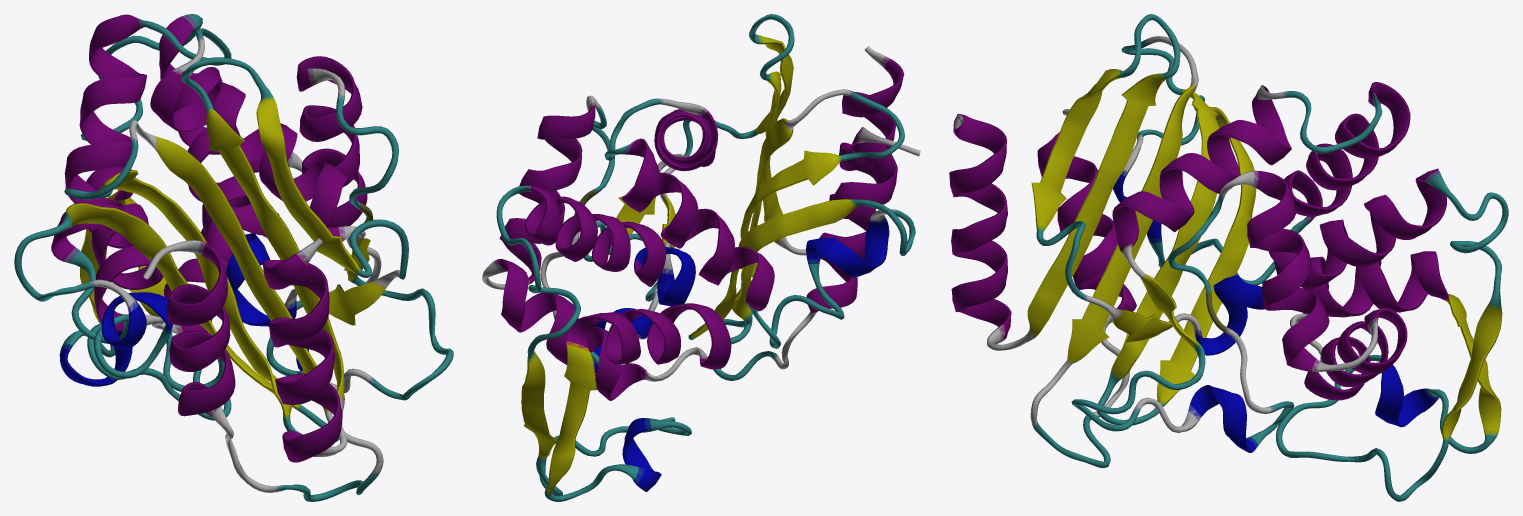
File: animate.0015.obj
3 renders of one model, left to right at view 1: azimuth 30°, elevation 25°; view 2: azimuth 150°, elevation 25°; view 3: azimuth 270°, elevation 25°, orthographic. The views are drawn at different scales.
Visible parts, largest first — view 1: vmd_mol0_rep0; view 2: vmd_mol0_rep0; view 3: vmd_mol0_rep0.
Boxes of the visible parts, left/top/right/bottom form: vmd_mol0_rep0: left=14, top=14, right=453, bottom=501; vmd_mol0_rep0: left=482, top=14, right=920, bottom=501; vmd_mol0_rep0: left=949, top=14, right=1508, bottom=501.
Bounding box in the file's own units: 1.01 × 1.12 × 1.32.
